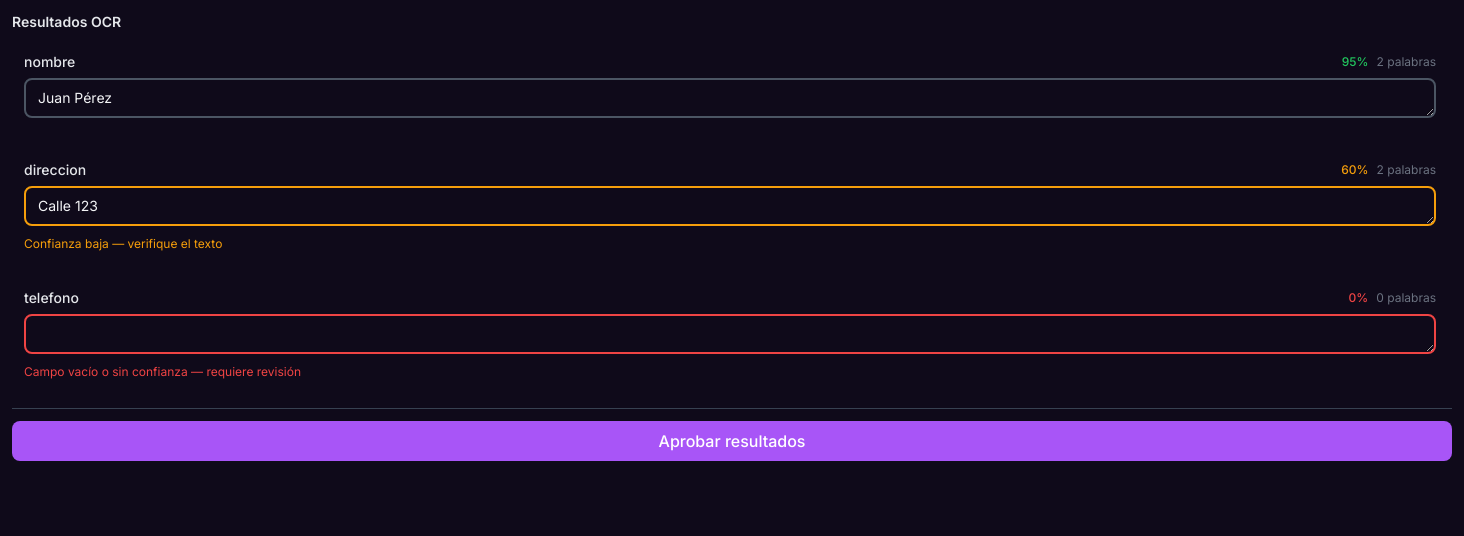
Test: OcrResultsPanel › bloquea aprobación si hay campos vacíos y muestra mensaje de error
Step 1. Click the button "Aprobar resultados" → (732, 441), box 12,421 -> 1452,461
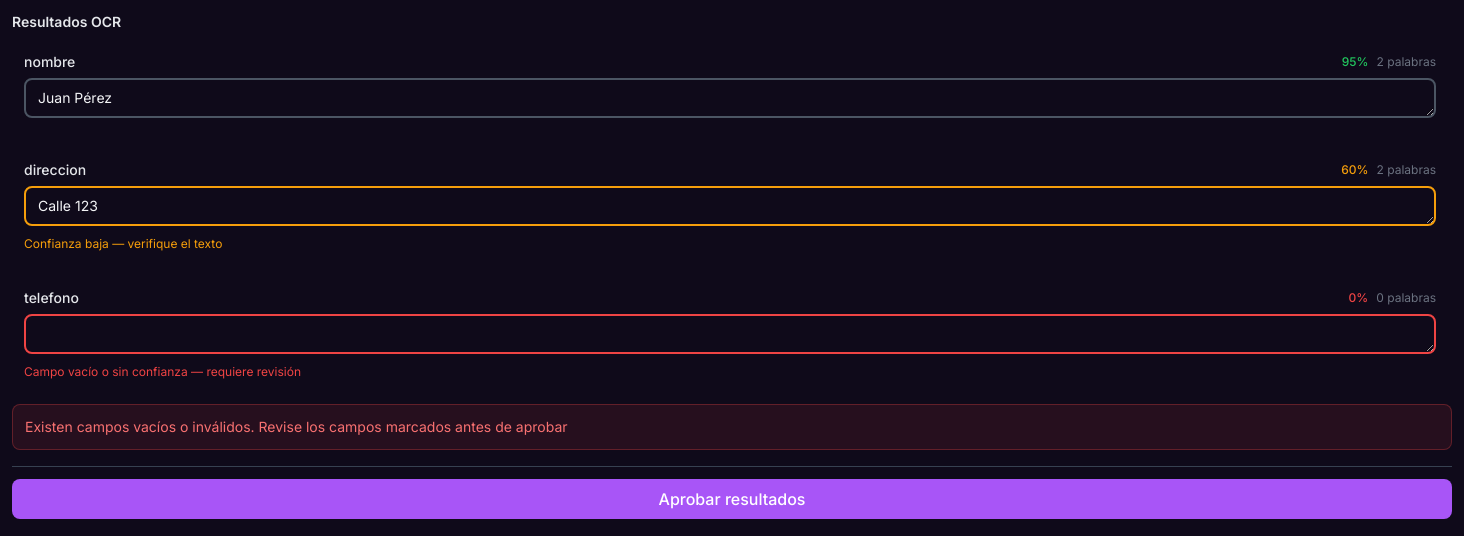
Check: the text "Existen campos vacíos o inválidos. Revise los campos marcados antes de aprobar" is shown, box 12,404 -> 1452,450
